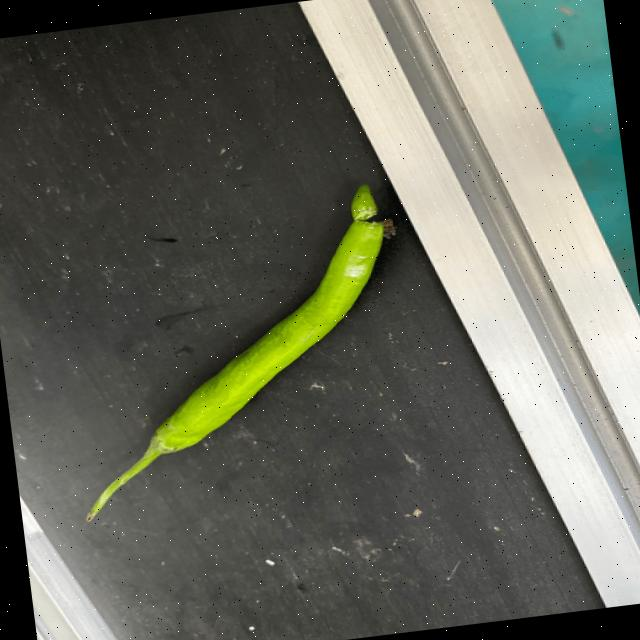chili: (148, 178, 386, 453)
